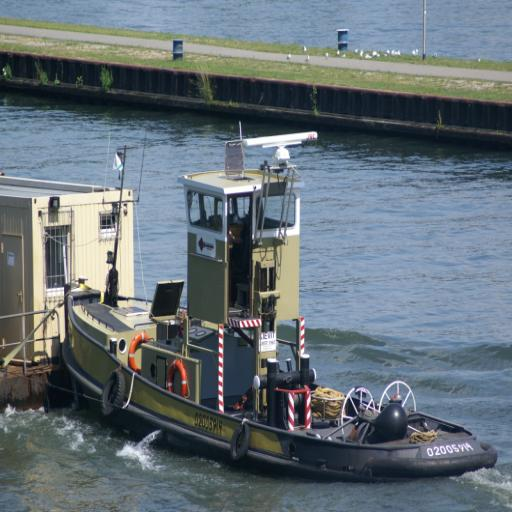tugboat: (61, 128, 500, 489)
